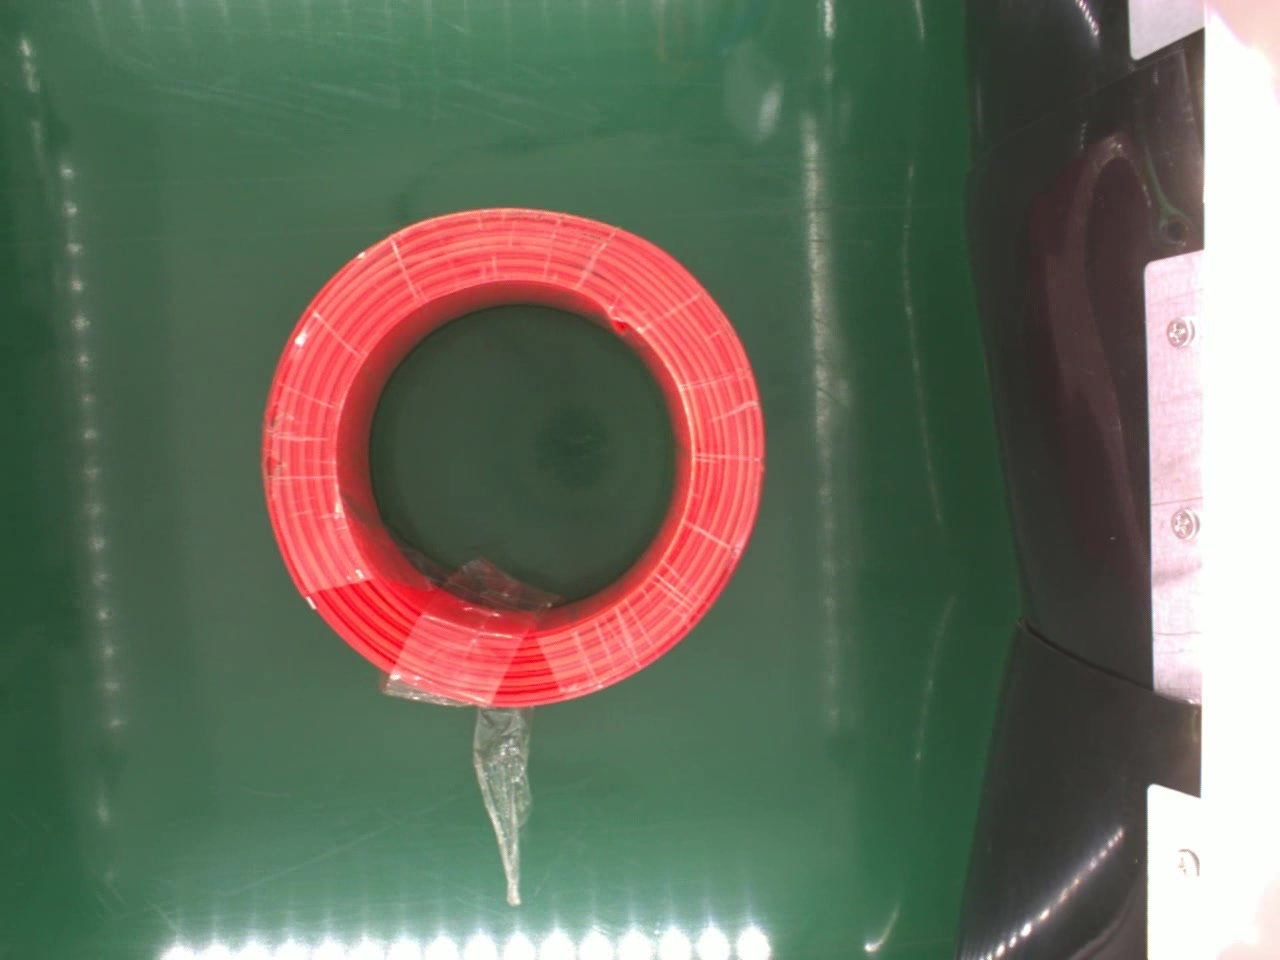red: (261, 202, 765, 711)
